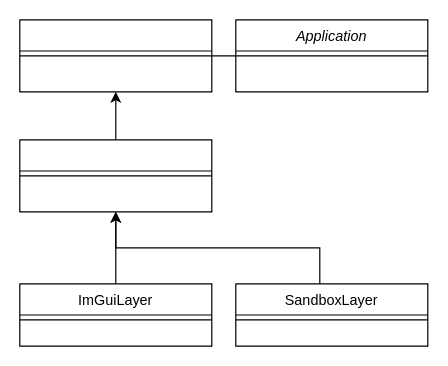
Some shapes in this 448 by 366 pixel diagram are drawn without their labels. The shapes that lost their labels are listed below. From the top down, each one's box as (x1, y1, x2, y2) in pixels, then its label:
(19, 19, 212, 92): LayerStack
(19, 139, 212, 212): Layer
